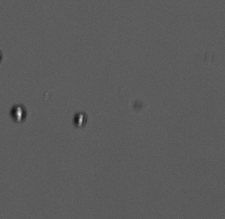Living Cell: (10, 104, 29, 124), (71, 110, 89, 129)
